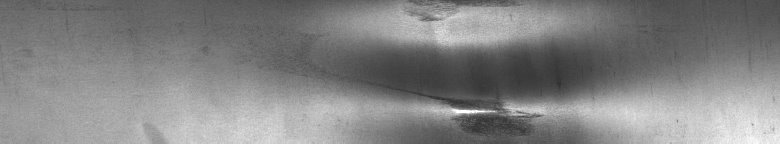ke: (389, 4, 572, 136)
